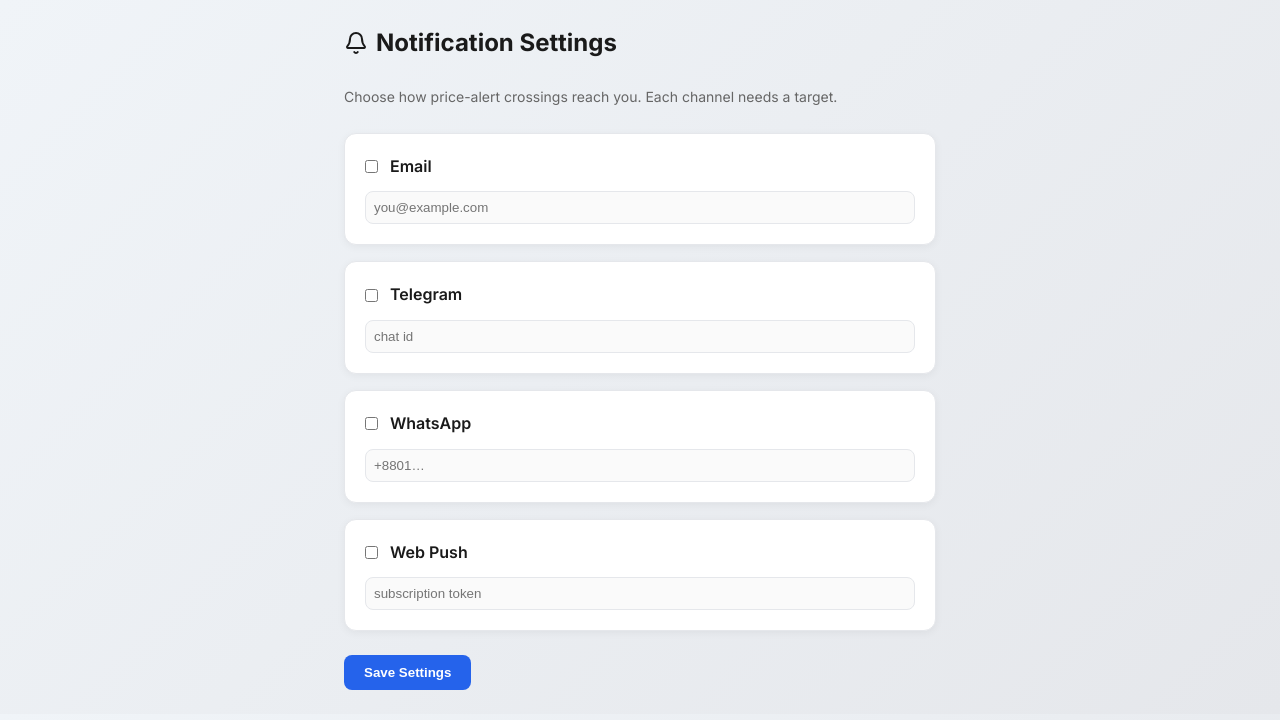
Test: Settings (notification prefs, #78) › PUTs the edited prefs including the newly enabled channel
Click the checkbox named "Enable Telegram" at (372, 295), box [365, 289, 378, 302]
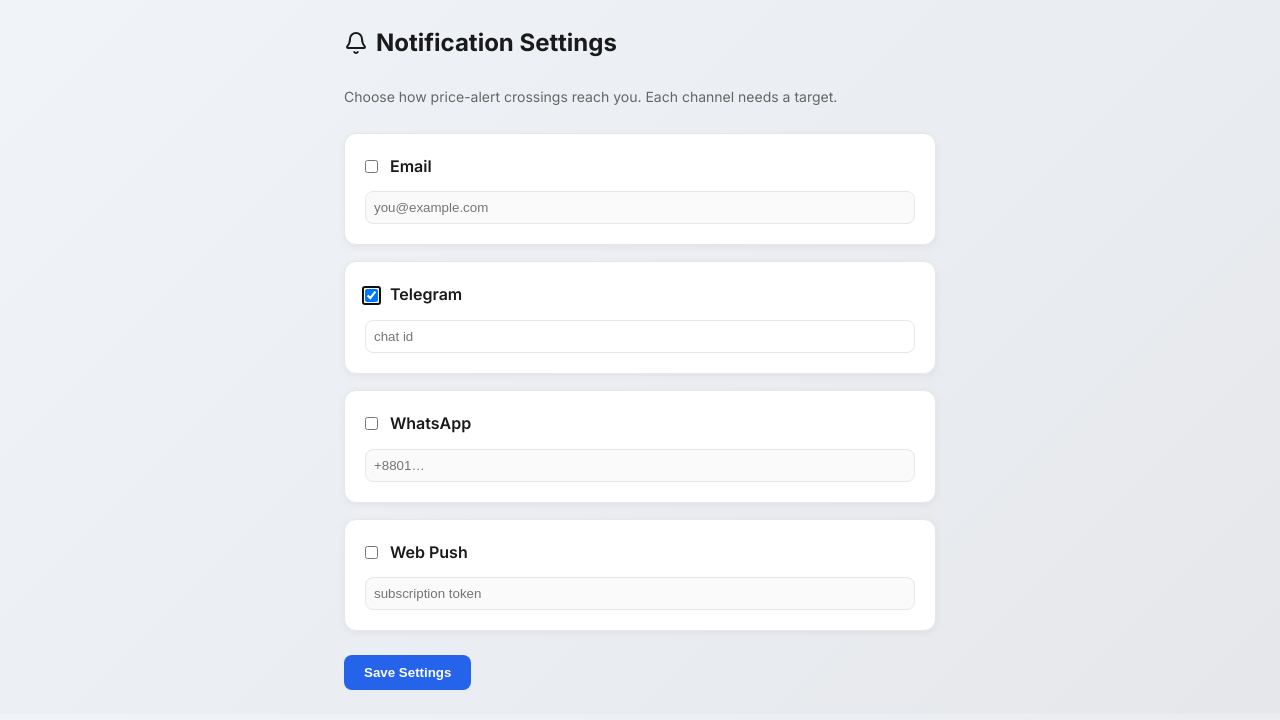
Type "12345" into the field named "Telegram target" at (640, 336), box [365, 320, 915, 353]
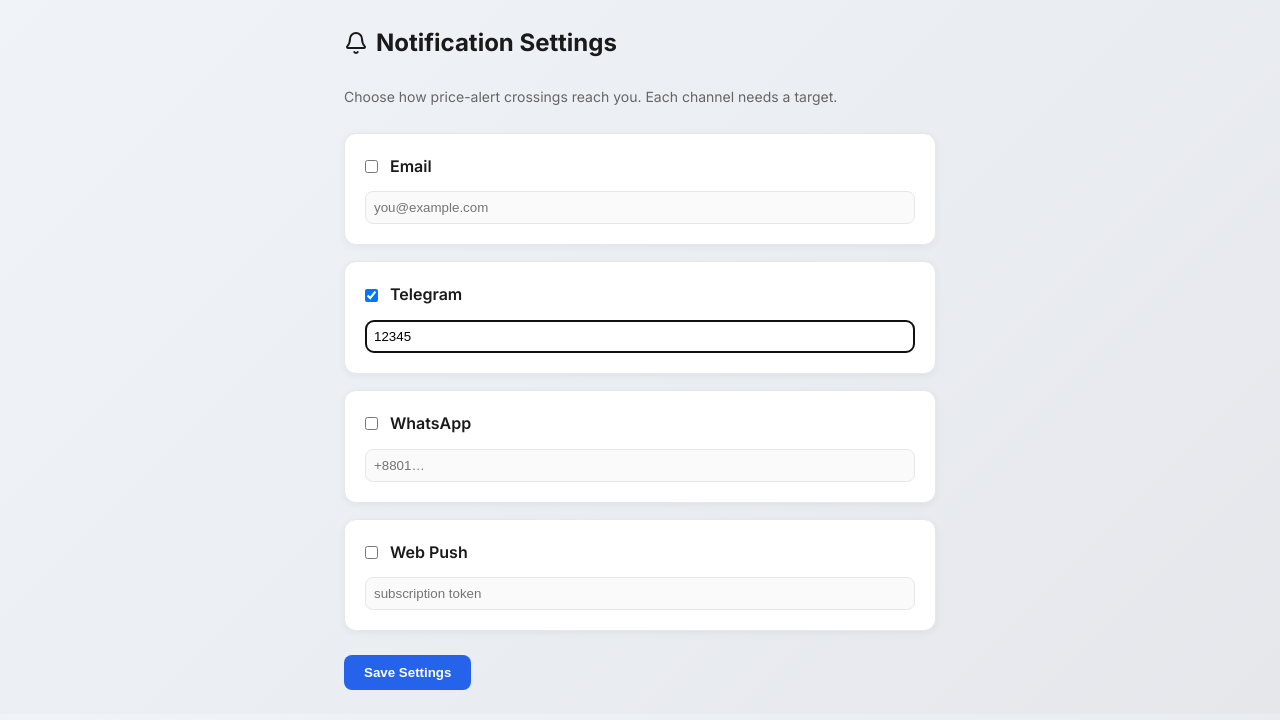
Click the button "Save Settings" at (408, 673), box [344, 655, 471, 690]
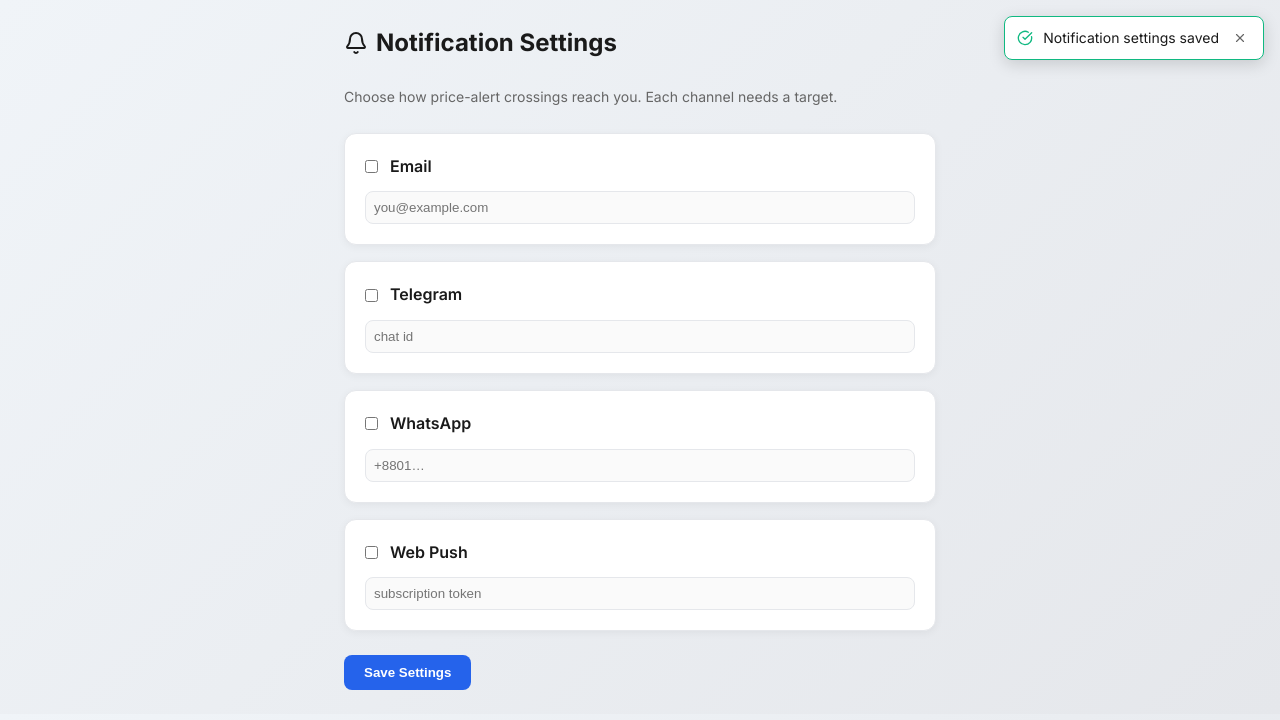
Now the text "Notification settings saved" is shown, box [1043, 28, 1219, 48]
